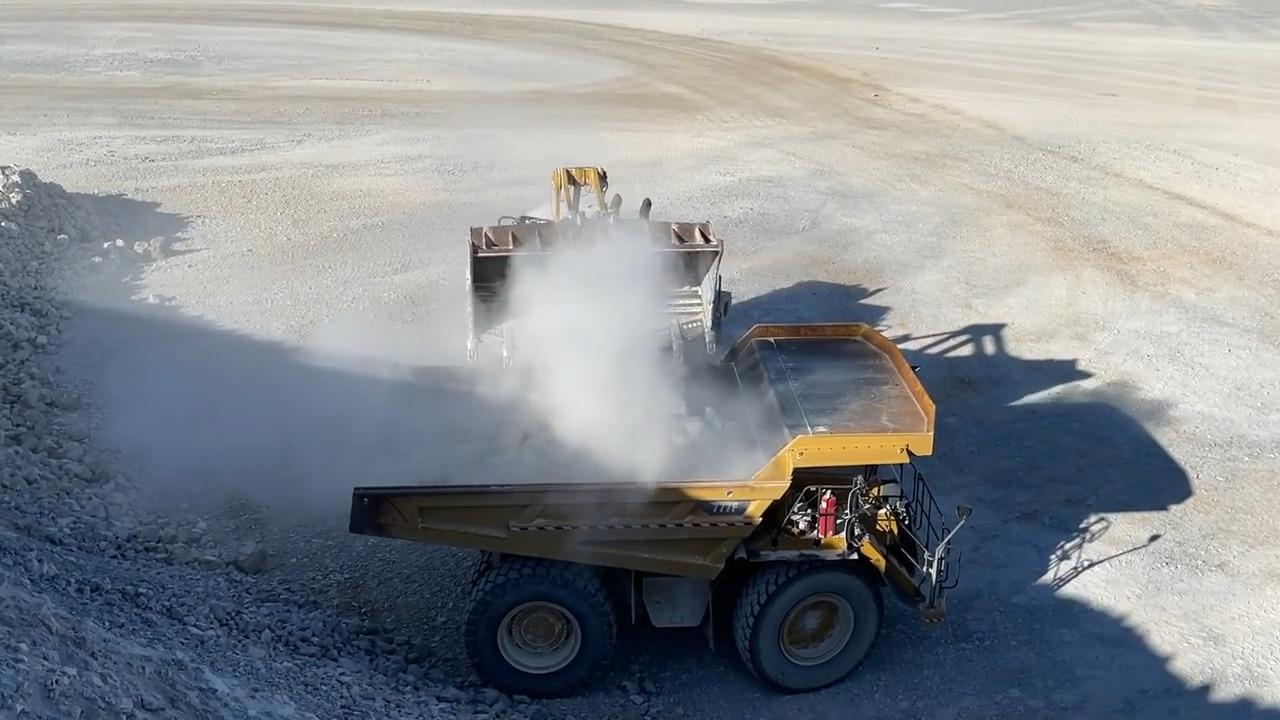dump truck: (337, 309, 981, 702)
wheel loader: (461, 155, 743, 369)
